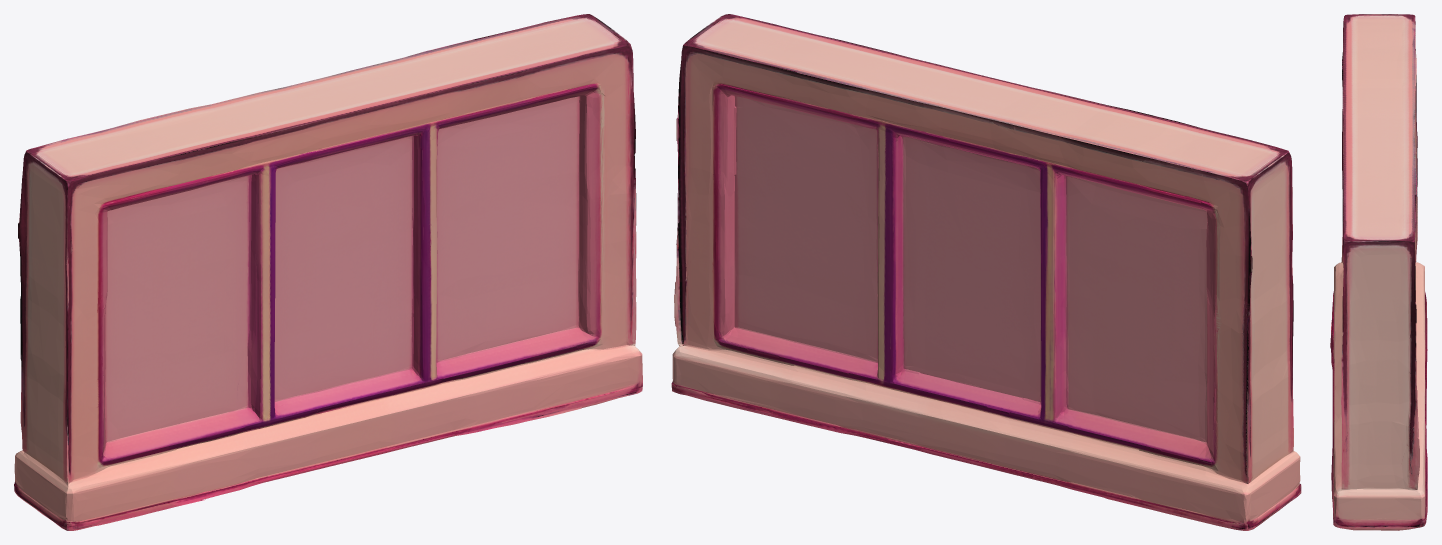
The picture shows the model from 3 angles, left to right: view 1: azimuth 30°, elevation 25°; view 2: azimuth 150°, elevation 25°; view 3: azimuth 270°, elevation 25°; orthographic projection. The views are drawn at different scales.
Visible parts, largest first — view 1: world; view 2: world; view 3: world.
Boxes of the visible parts, bbox=[...] form: world: bbox=[14, 14, 642, 530]; world: bbox=[671, 14, 1301, 530]; world: bbox=[1330, 14, 1427, 530].
Size of the model in its own units: 100 by 57.88 by 17.76.
1 material, 1 textured.
